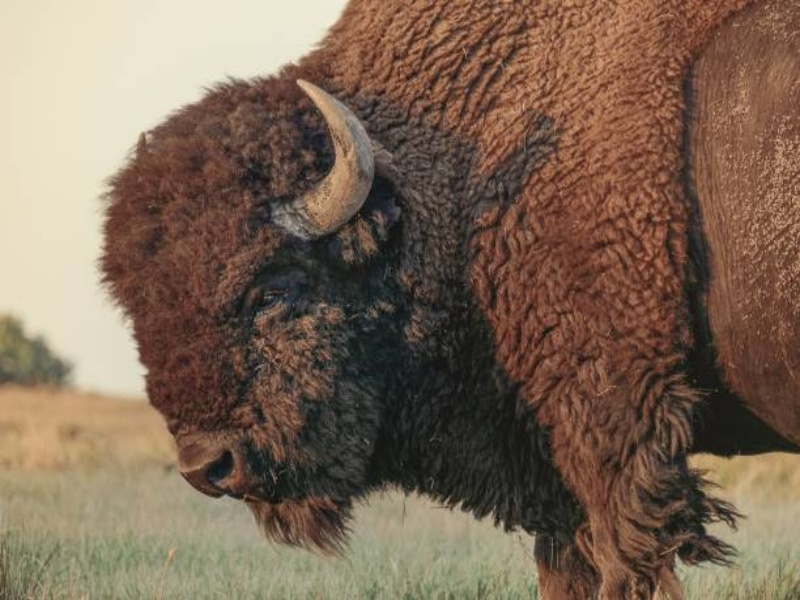buffalo: (105, 8, 779, 546)
